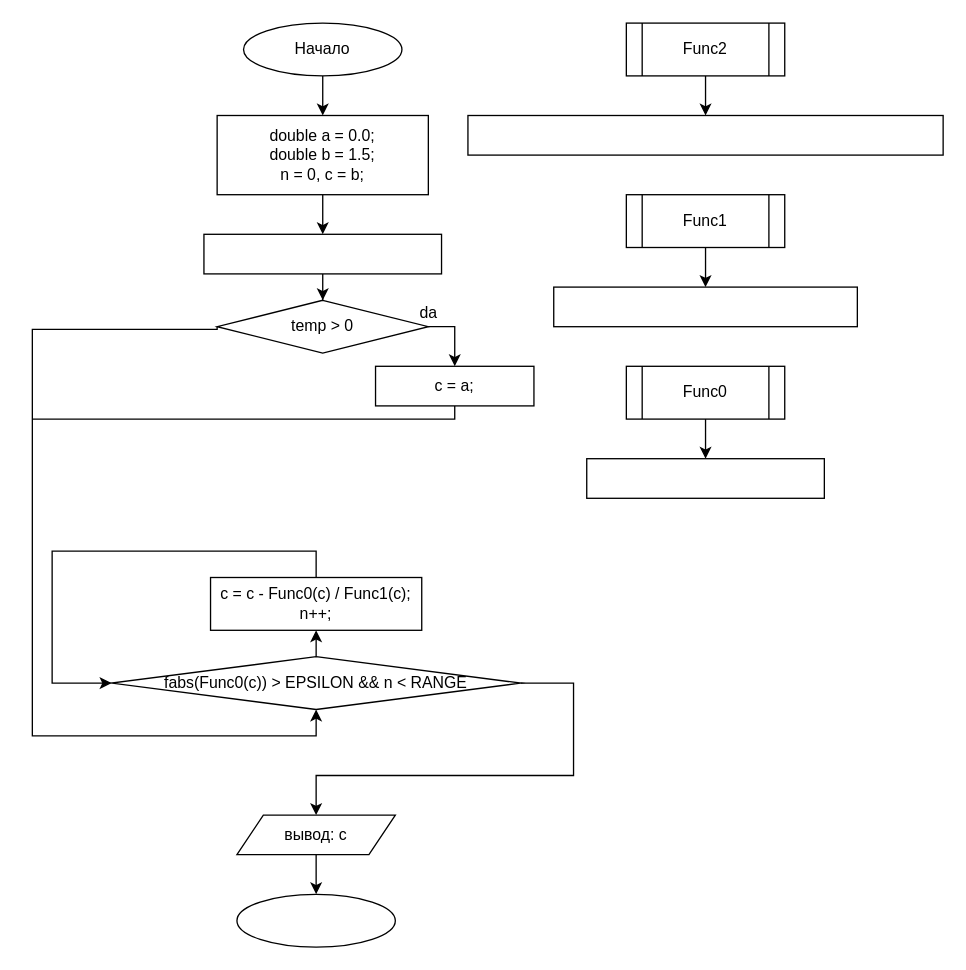
This 966x970 diagram has some shape labels left out. The shapes that lost their labels are listed below. From the top down, each one's centre as x and y in pixels, then its label:
At [705,134]: "return (20.0 * pow(x, 3)) + (4.0 * (x*x)) * cos(x*x) + (2.0 * sin(x*x))".
At [322,253]: "temp = Func0(a) * Func2(a)".
At [704,306]: "return (5.0 * pow(x, 4)) + (2.0 * x) * sin(x*x)".
At [704,477]: "return pow(x, 5) - cos(pow(x, 2))".
At [315,920]: "Конец".
